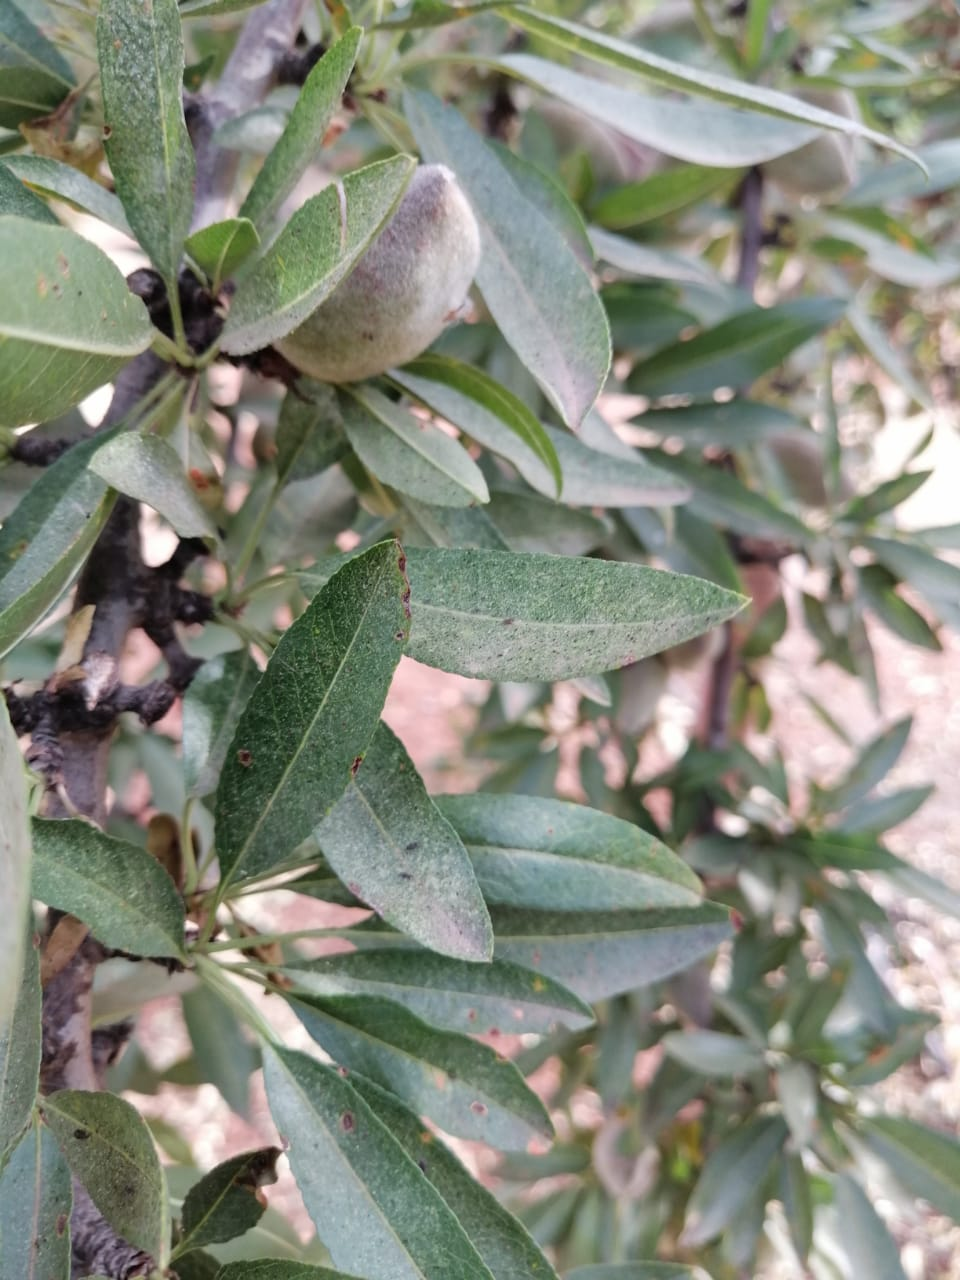acariens: (211, 538, 413, 892), (296, 541, 757, 683), (263, 1040, 494, 1280), (37, 1087, 175, 1268), (30, 813, 186, 959)
